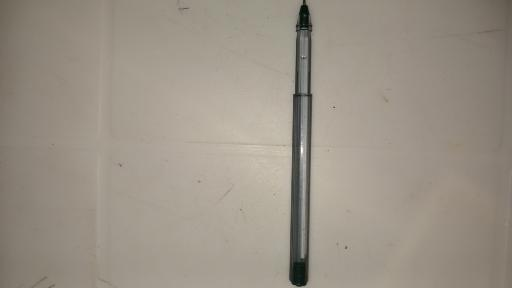pen: (290, 1, 311, 286)
